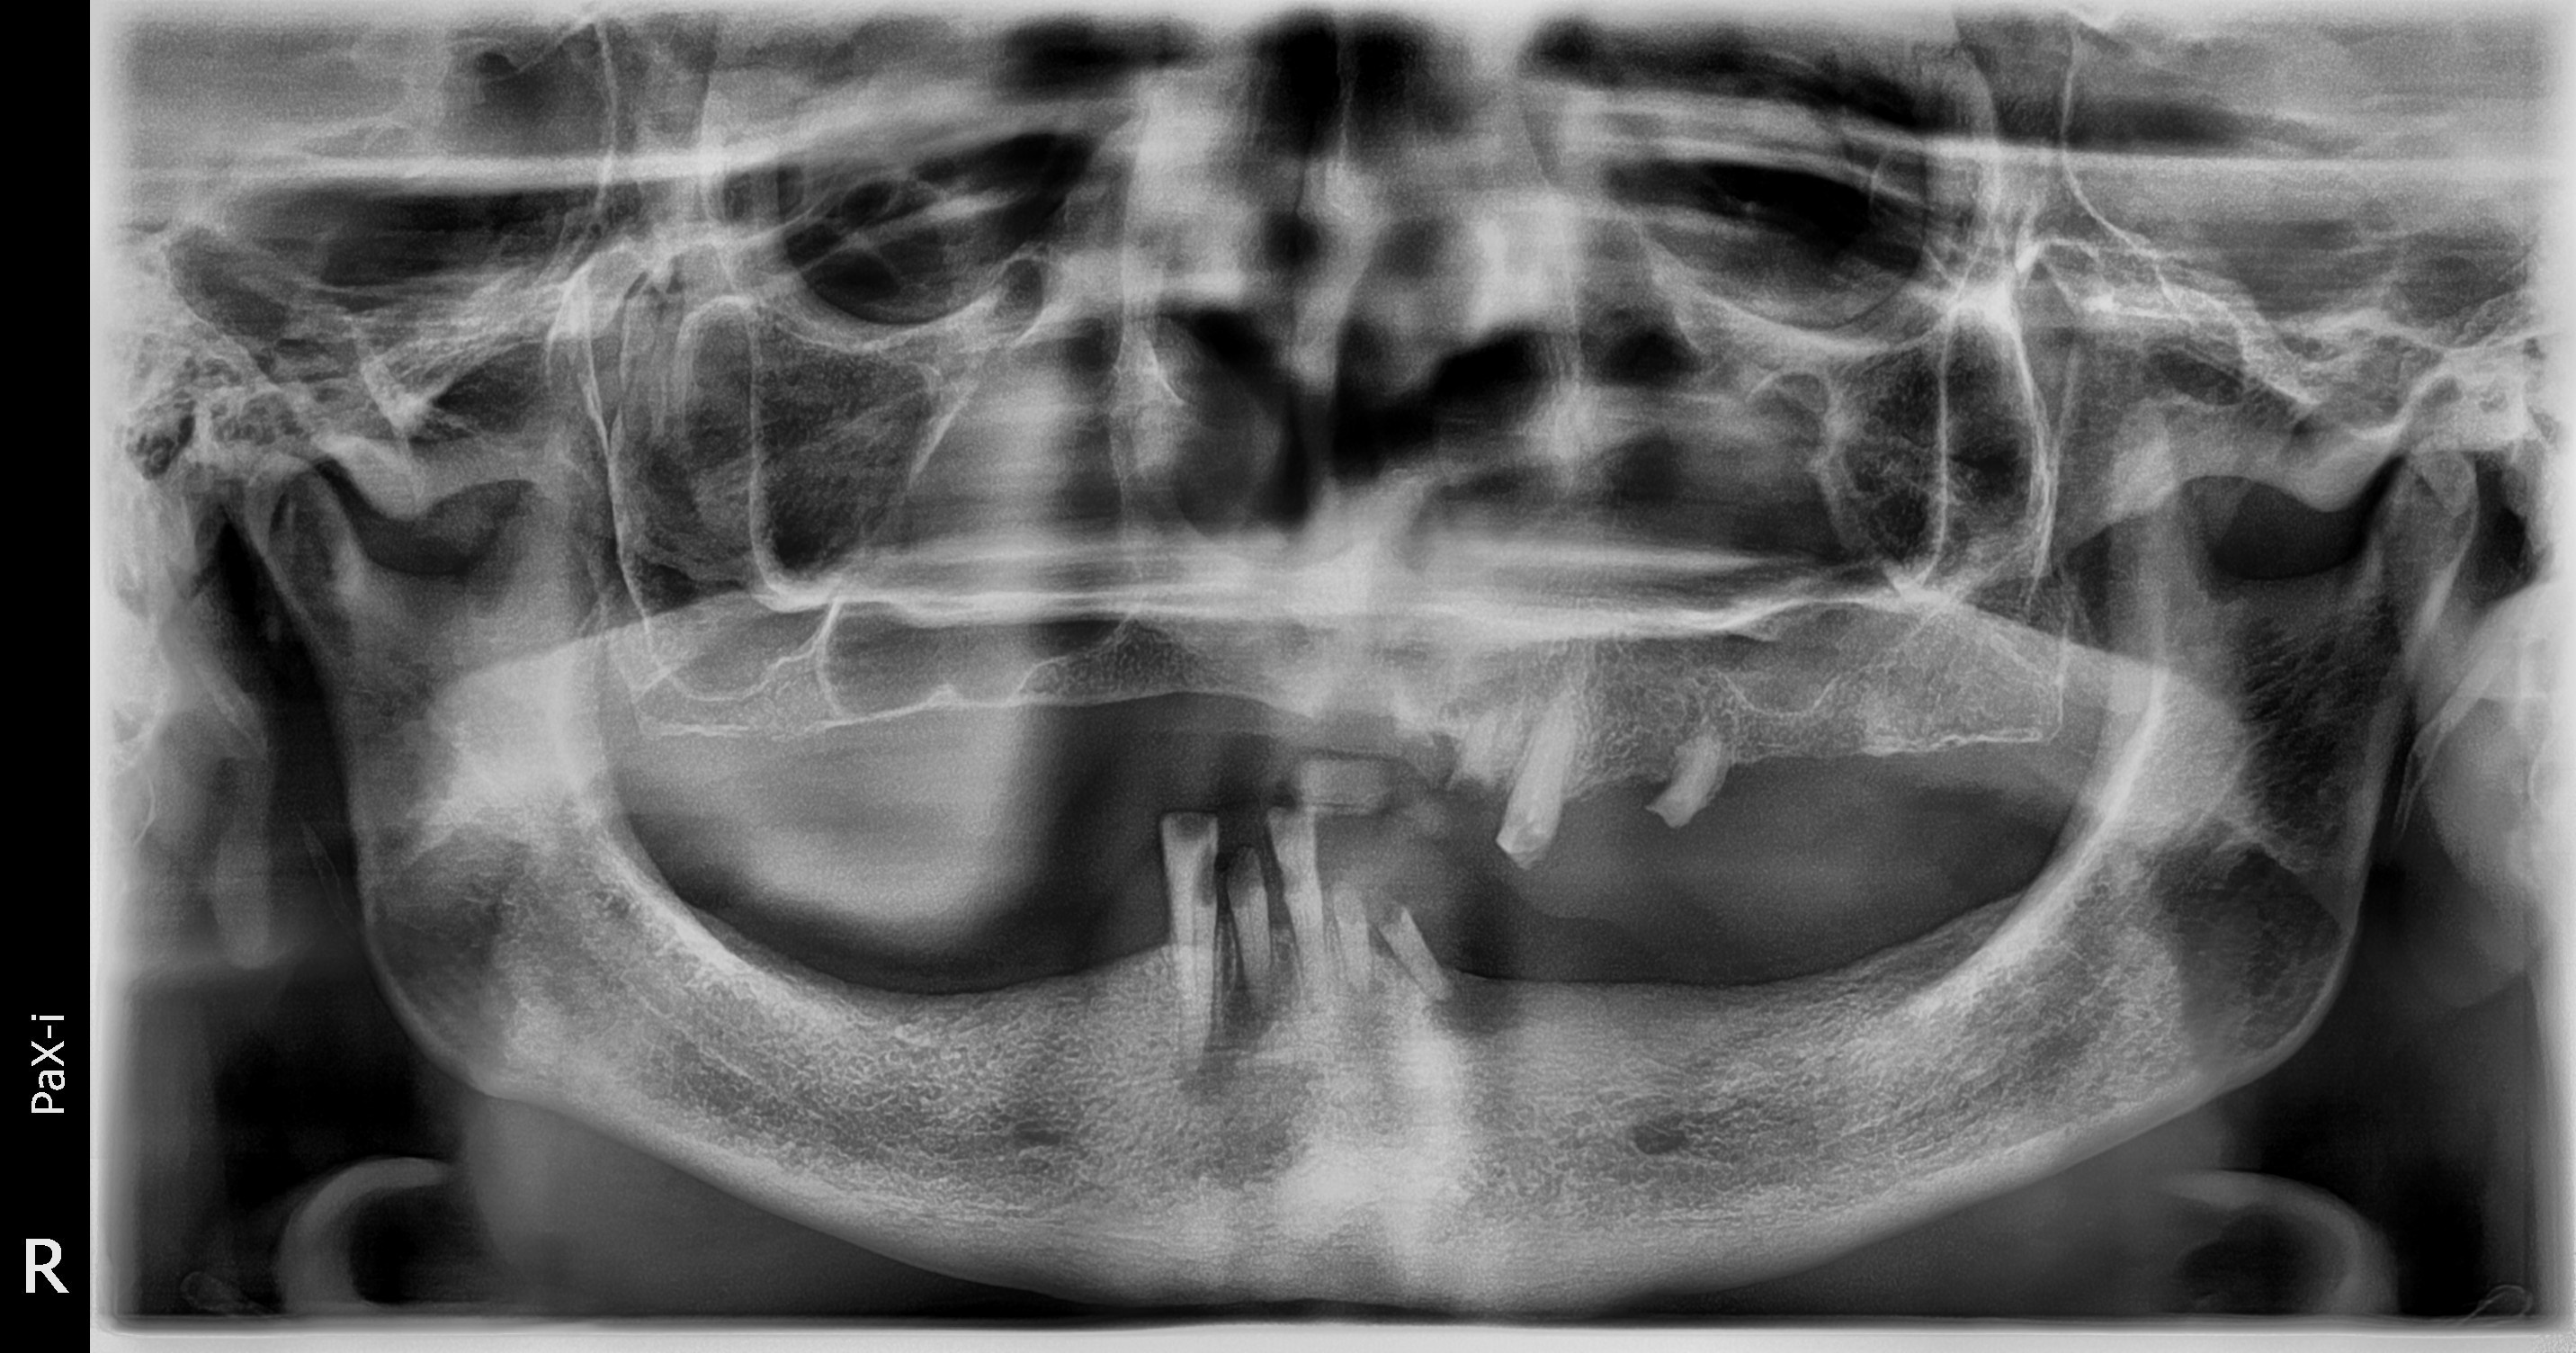API: (1170, 997, 1233, 1104)
CAR: (1196, 842, 1216, 912)
ROT: (1445, 707, 1496, 792)
